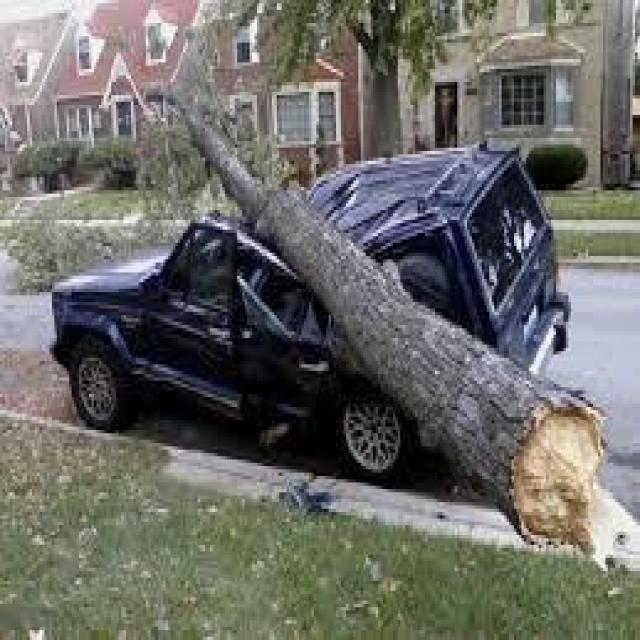damaged: (171, 177, 457, 476)
